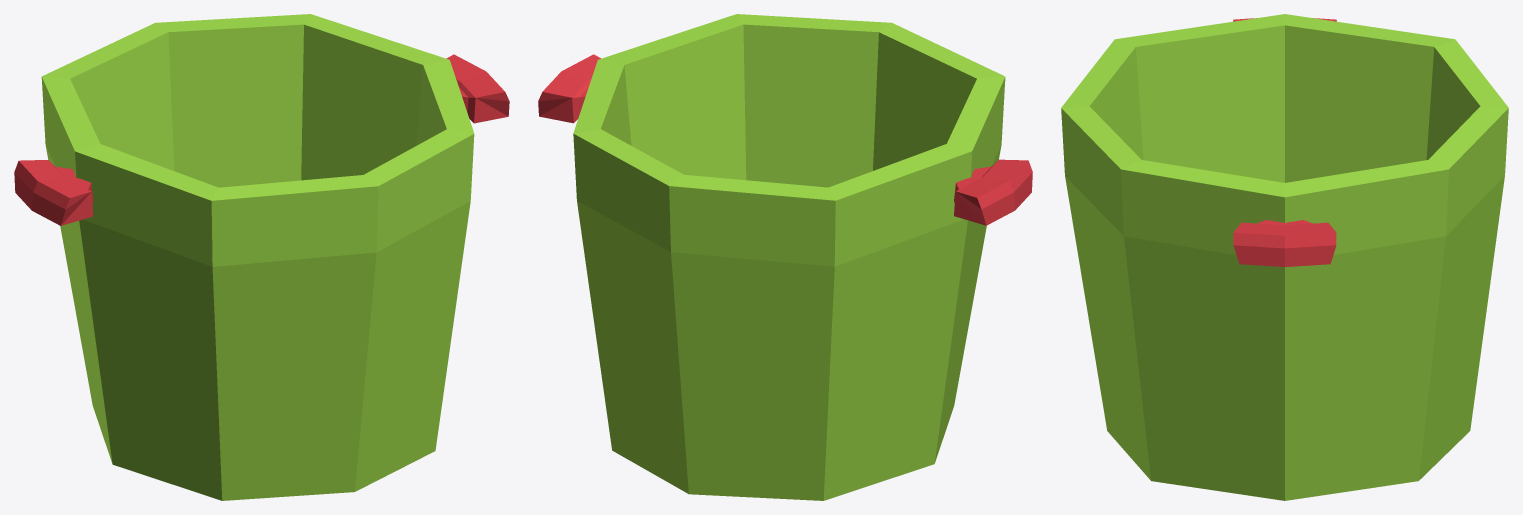
File: cooking pot.fbx
The picture shows the model from 3 angles, left to right: view 1: azimuth 30°, elevation 25°; view 2: azimuth 150°, elevation 25°; view 3: azimuth 270°, elevation 25°; orthographic projection.
Visible parts, largest first — view 1: pot, handle; view 2: pot, handle; view 3: pot, handle.
Boxes of the visible parts, x1,y1,x2,y2 form: pot: (41, 14, 474, 500); handle: (14, 54, 509, 225); pot: (573, 14, 1005, 500); handle: (538, 54, 1032, 225); pot: (1061, 14, 1508, 500); handle: (1233, 18, 1336, 266).
Size of the model in its own units: 206 by 138 by 173.
